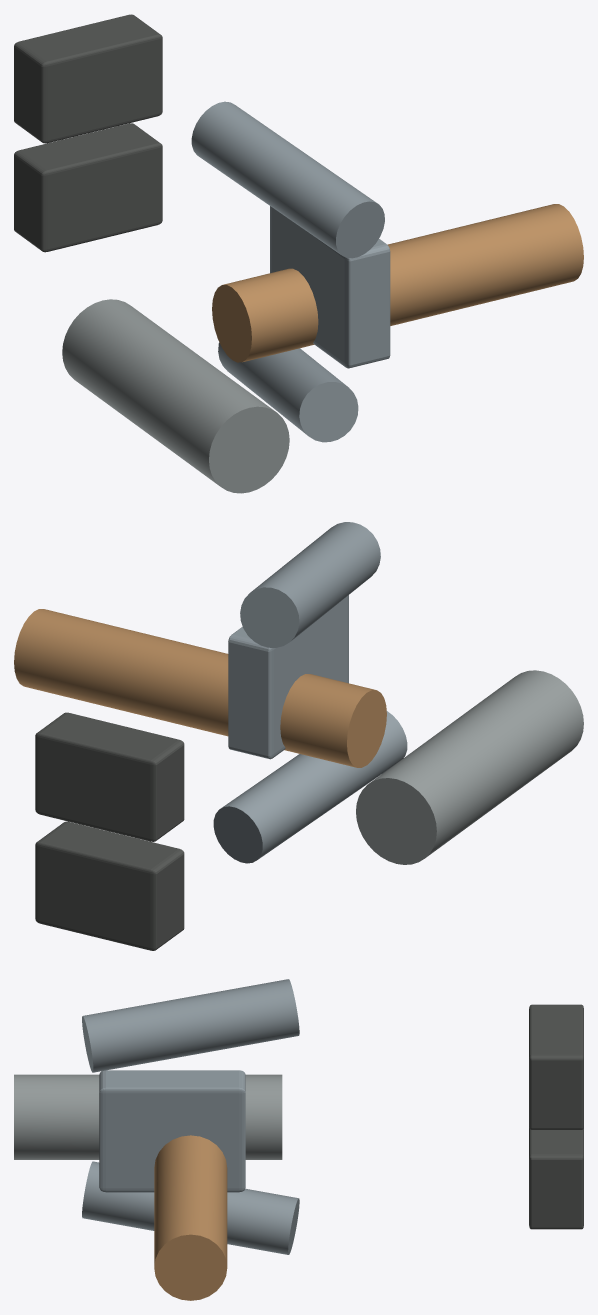
The model's file is s-u08-specter-flamethrower-lod2.glb.
3 views of the same model, one above another, from view 1: azimuth 30°, elevation 25°; view 2: azimuth 150°, elevation 25°; view 3: azimuth 270°, elevation 25° (orthographic). The views are drawn at different scales.
Parts seen in each view (by area): view 1: soldier_0_flamer, fuel_tank_-1, soldier_0_boot_1, soldier_0_boot_-1, soldier_0_arm_1, soldier_0_chest, soldier_0_arm_-1; view 2: soldier_0_flamer, fuel_tank_-1, soldier_0_boot_1, soldier_0_boot_-1, soldier_0_arm_-1, soldier_0_chest, soldier_0_arm_1; view 3: soldier_0_chest, soldier_0_arm_1, soldier_0_flamer, fuel_tank_-1, soldier_0_boot_1, soldier_0_arm_-1, soldier_0_boot_-1.
Part boxes in pixels (x1,y1,x2,y2): soldier_0_flamer: [212, 204, 583, 362]; fuel_tank_-1: [62, 299, 289, 493]; soldier_0_boot_1: [14, 14, 162, 143]; soldier_0_boot_-1: [14, 123, 162, 252]; soldier_0_arm_1: [191, 101, 384, 258]; soldier_0_chest: [270, 206, 390, 368]; soldier_0_arm_-1: [218, 342, 358, 442]; soldier_0_flamer: [14, 609, 386, 767]; fuel_tank_-1: [356, 670, 583, 864]; soldier_0_boot_1: [35, 712, 184, 841]; soldier_0_boot_-1: [35, 821, 184, 950]; soldier_0_arm_-1: [213, 711, 407, 863]; soldier_0_chest: [228, 595, 348, 759]; soldier_0_arm_1: [240, 522, 380, 647]; soldier_0_chest: [99, 1070, 245, 1192]; soldier_0_arm_1: [82, 979, 299, 1072]; soldier_0_flamer: [154, 1135, 227, 1300]; fuel_tank_-1: [14, 1074, 282, 1159]; soldier_0_boot_1: [529, 1004, 583, 1129]; soldier_0_arm_-1: [82, 1161, 299, 1254]; soldier_0_boot_-1: [529, 1126, 583, 1229].
Size of what is drawn, in the model's own units: 1.56 by 0.9312 by 1.87.
